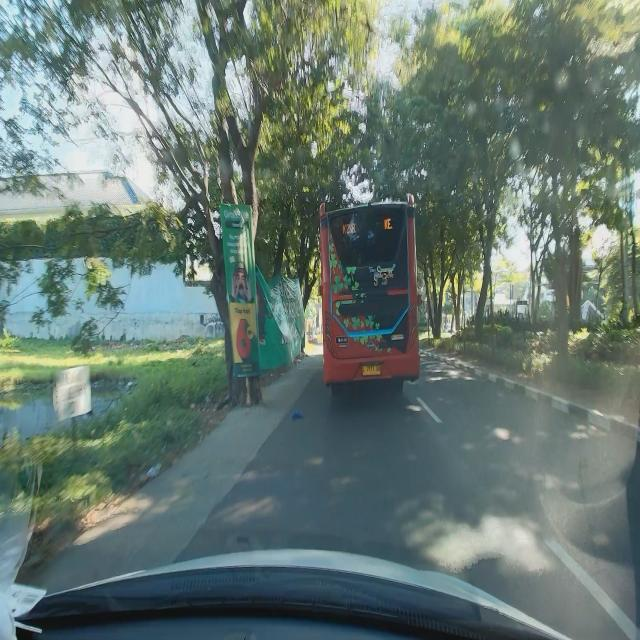bus: (318, 192, 422, 394)
license-plate: (362, 364, 382, 376)
